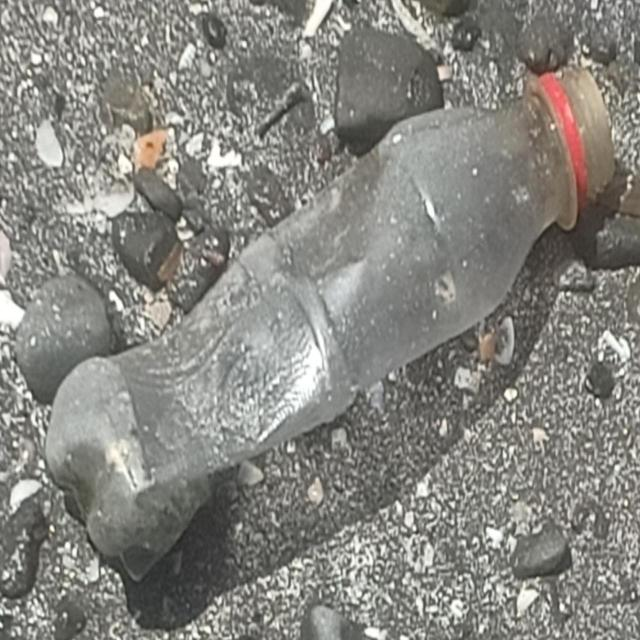plastic_waste: (46, 68, 616, 583)
